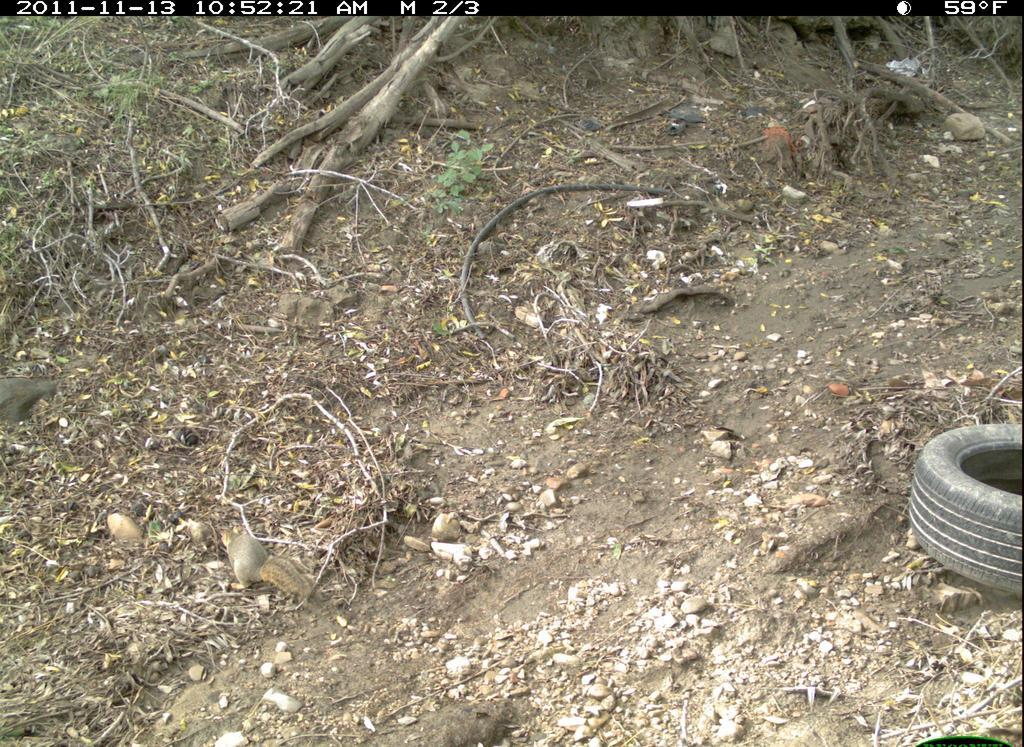squirrel: (207, 515, 335, 615)
